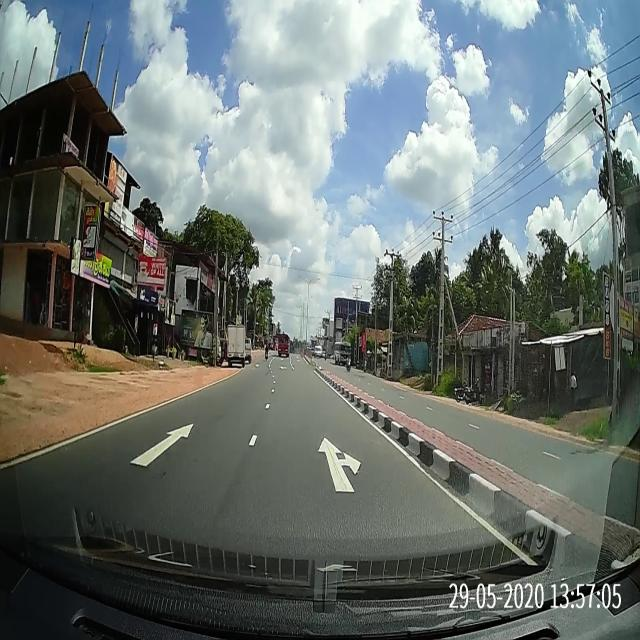Strelka vpered: (126, 421, 196, 469)
Strelka vpered - vpravo: (316, 434, 363, 494)
